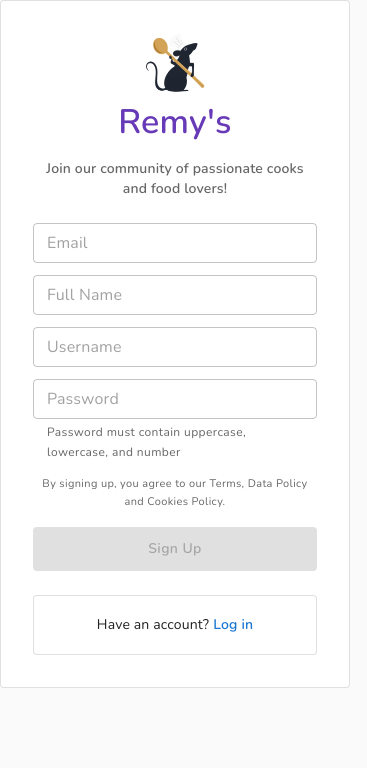
Test: RegisterForm Component › should clear error when close button is clicked
The width and height of the screenshot is (367, 768).
Type "test@example.com" into the field with placeholder "Email".
click(175, 243); type("test@example.com")  # box [33,223,317,263]
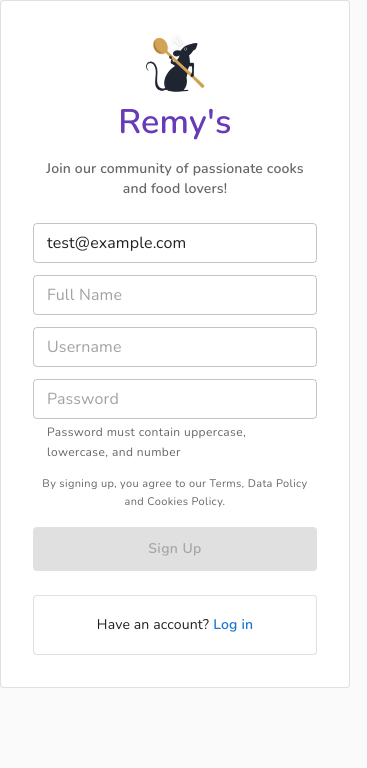
Type "existinguser" into the field with placeholder "Username".
click(175, 347); type("existinguser")  # box [33,327,317,367]
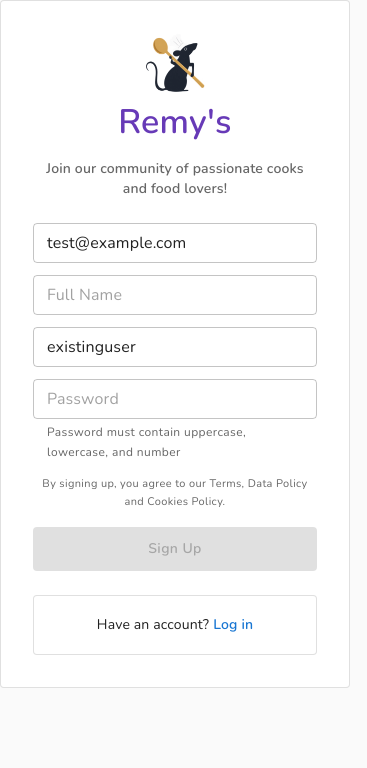
Type "Password123" into the password field with placeholder "Password".
click(175, 399); type("Password123")  # box [33,379,317,419]
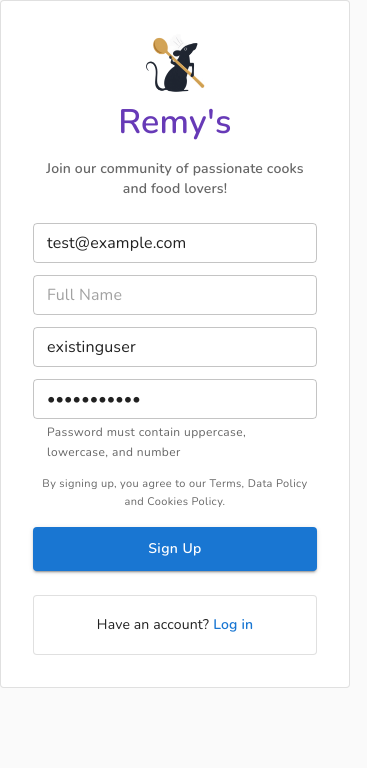
Click the button "Sign Up".
click(175, 549)  # box [33,527,317,571]
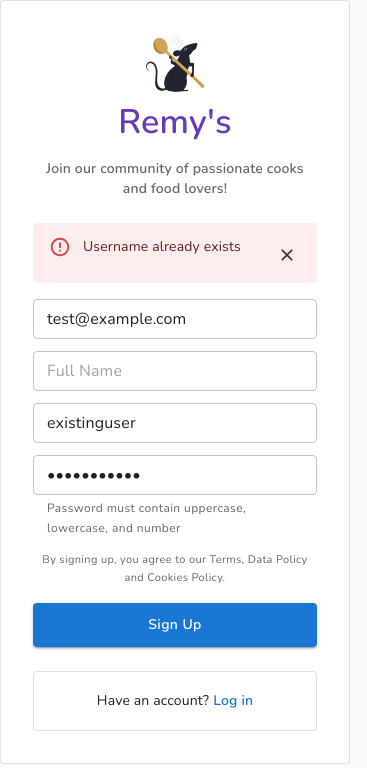
expect the text "Username already exists" is shown: met, box [83,237,241,256]
Click the button named "close".
click(287, 255)  # box [265,233,309,277]
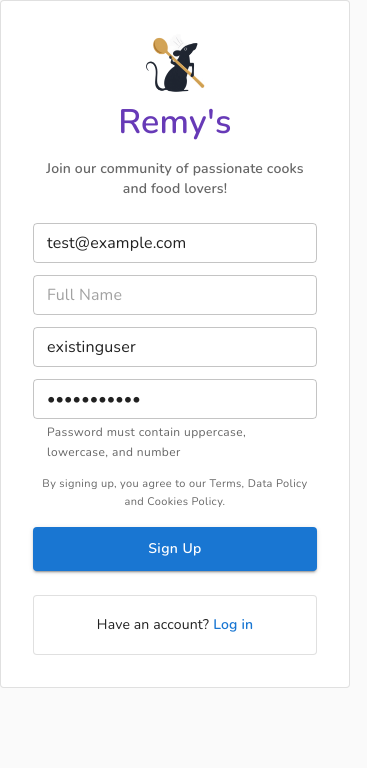
expect the text "Username already exists" is gone: met
